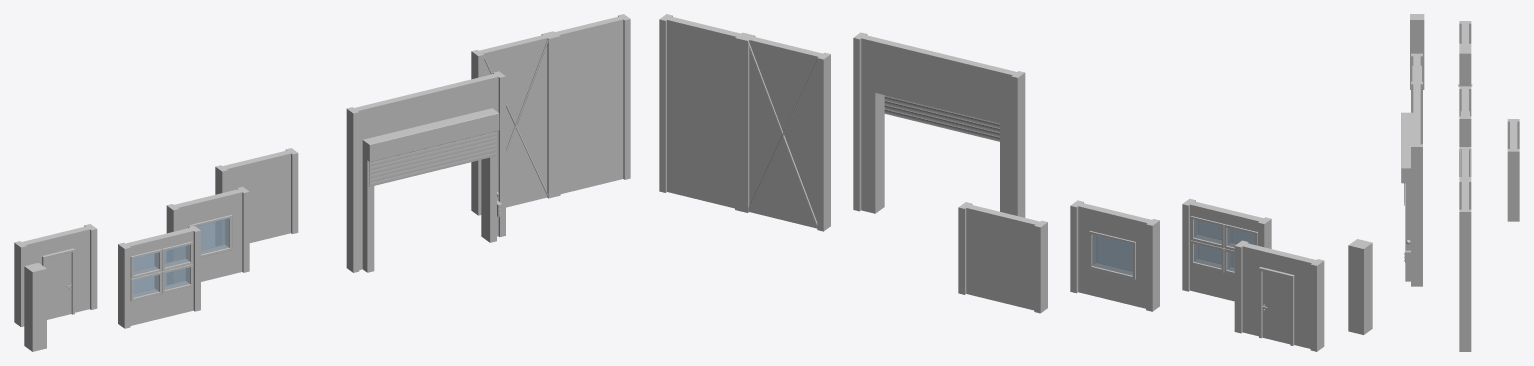
File: Hall_Walls.fbx
The picture shows the model from 3 angles, left to right: view 1: azimuth 30°, elevation 25°; view 2: azimuth 150°, elevation 25°; view 3: azimuth 270°, elevation 25°; orthographic projection. The views are drawn at different scales.
Parts seen in each view (by area): view 1: Wall_640, Wall_RollingGate, Wall_Window_L, Wall_Door, Wall_320, Wall_Window_S, CornerColumn; view 2: Wall_640, Wall_RollingGate, Wall_Door, Wall_320, Wall_Window_S, Wall_Window_L, CornerColumn; view 3: Wall_RollingGate, Wall_640, Wall_320, Wall_Door, Wall_Window_S, CornerColumn, Wall_Window_L.
Part boxes in pixels (x1,y1,x2,y2): Wall_640: [471, 14, 630, 215]; Wall_RollingGate: [346, 71, 505, 272]; Wall_Window_L: [118, 225, 200, 328]; Wall_Door: [14, 224, 97, 327]; Wall_320: [215, 148, 298, 242]; Wall_Window_S: [166, 186, 249, 281]; CornerColumn: [24, 263, 46, 351]; Wall_640: [659, 14, 830, 231]; Wall_RollingGate: [853, 32, 1025, 217]; Wall_Door: [1234, 240, 1324, 351]; Wall_320: [958, 202, 1047, 313]; Wall_Window_S: [1070, 200, 1159, 311]; Wall_Window_L: [1182, 198, 1271, 301]; CornerColumn: [1348, 239, 1372, 334]; Wall_RollingGate: [1401, 81, 1422, 286]; Wall_640: [1459, 147, 1471, 351]; Wall_320: [1507, 119, 1519, 221]; Wall_Door: [1458, 21, 1472, 86]; Wall_Window_S: [1459, 86, 1471, 146]; CornerColumn: [1410, 14, 1424, 89]; Wall_Window_L: [1411, 53, 1422, 81].
Bounding box in the file's own units: 26.3 × 6.4 × 4.9.
